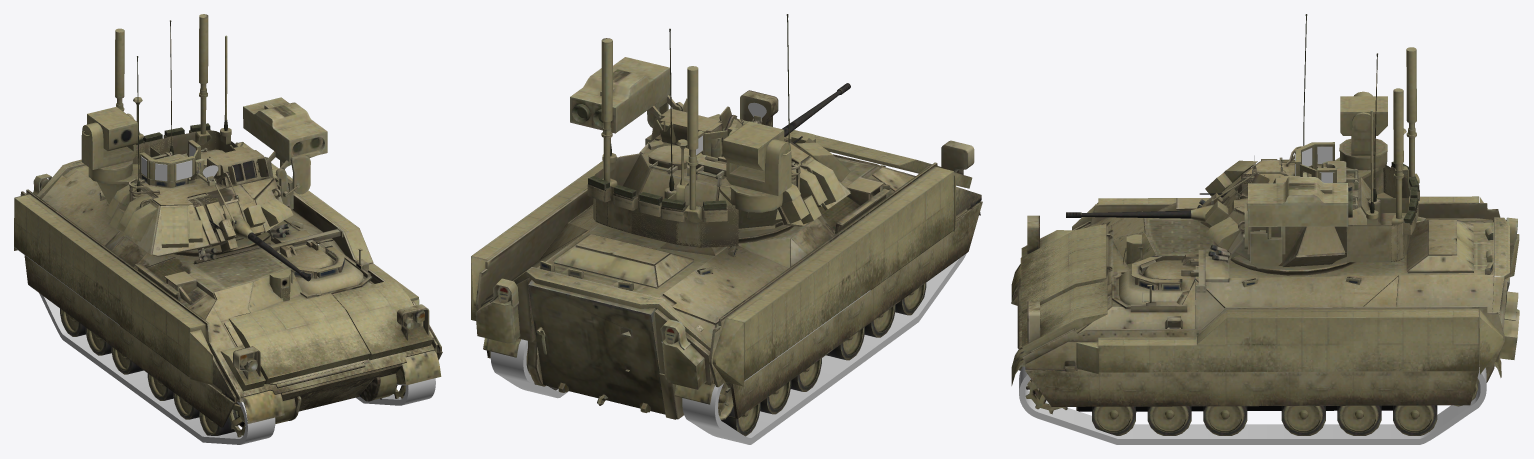
3 views of the same model, side by side, from view 1: azimuth 30°, elevation 25°; view 2: azimuth 150°, elevation 25°; view 3: azimuth 270°, elevation 25° (orthographic). The views are drawn at different scales.
Visible parts, largest first — view 1: Mesh02, rotate-2, Mesh03, Object002, guns; view 2: Mesh02, rotate-2, Mesh03, Object002, guns; view 3: Mesh02, Mesh03, rotate-2, Object002, guns.
Boxes of the visible parts, x1,y1,x2,y2 form: Mesh02: (14, 142, 441, 437); rotate-2: (81, 14, 327, 260); Mesh03: (20, 168, 442, 427); Object002: (39, 293, 435, 444); guns: (190, 161, 310, 281); Mesh02: (471, 114, 980, 436); rotate-2: (570, 14, 850, 247); Mesh03: (476, 90, 982, 419); Object002: (490, 253, 966, 444); guns: (721, 83, 850, 144); Mesh02: (1011, 196, 1519, 435); Mesh03: (1017, 198, 1507, 406); rotate-2: (1197, 14, 1419, 275); Object002: (1019, 366, 1486, 444); guns: (1066, 158, 1290, 222).
Size of the model in its own units: 3.96 by 5.21 by 6.99.
